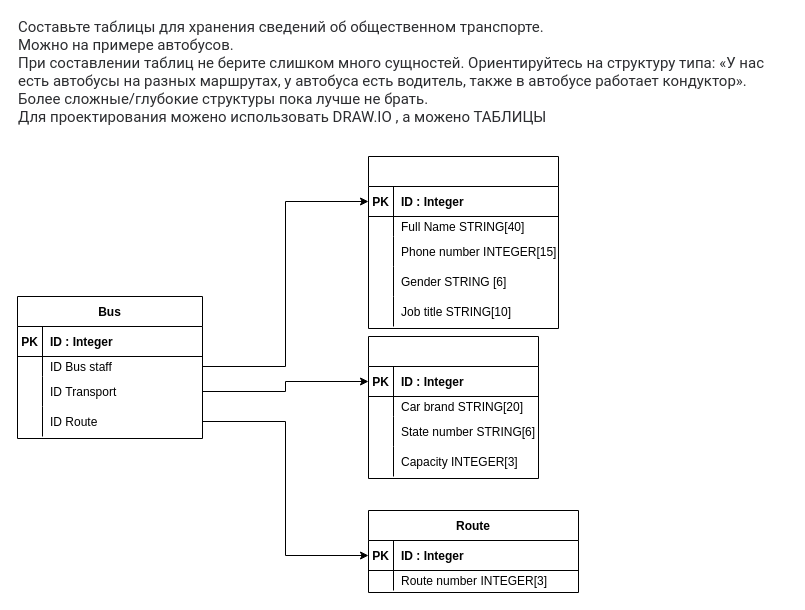
The diagram is 805 pixels wide and 610 high, and some of its shapes have lost their labels. Here are the shapes that lost their labels. From the top down, the box of each, then its label:
(368, 156, 558, 328): Bus Staff
(368, 336, 538, 478): Transport
